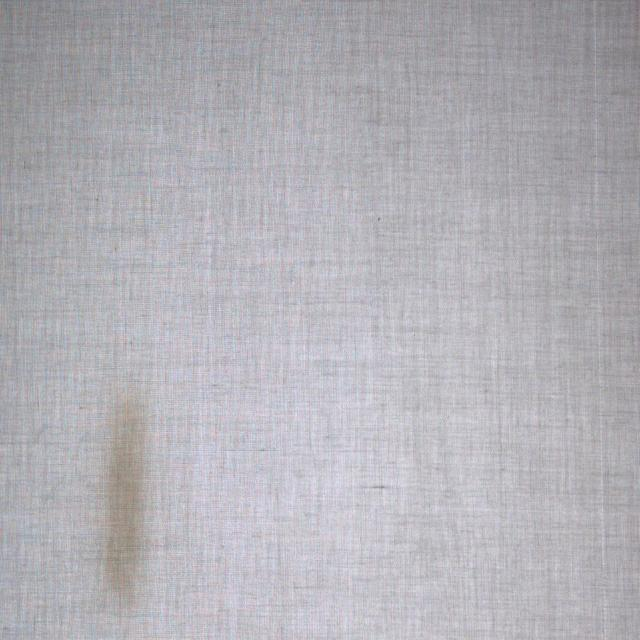dirty: (107, 397, 143, 599)
